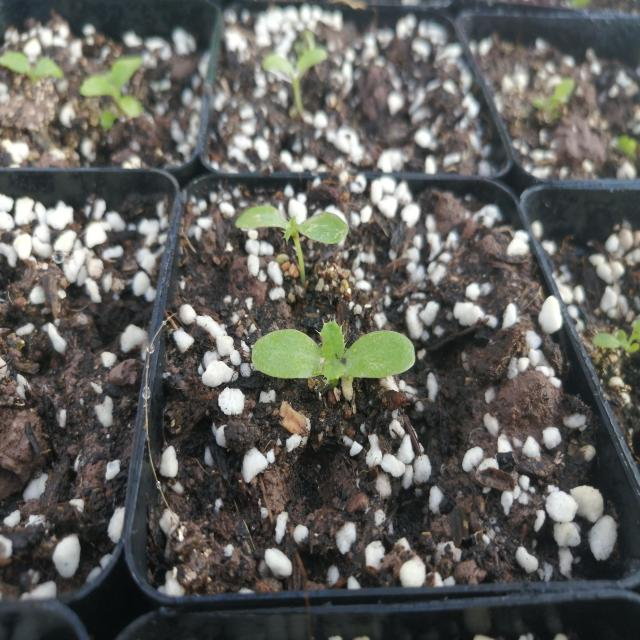field_thistle: (236, 305, 428, 420), (224, 190, 356, 254)
